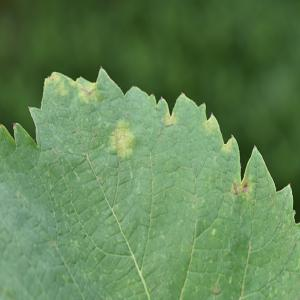Folha: (0, 64, 299, 299)
Fungo: (108, 118, 136, 162), (75, 76, 99, 104), (44, 74, 69, 99), (202, 116, 220, 134), (232, 179, 249, 195), (164, 110, 178, 126), (81, 85, 94, 98), (222, 139, 233, 154), (210, 284, 221, 296), (232, 181, 239, 195), (241, 181, 248, 193)
